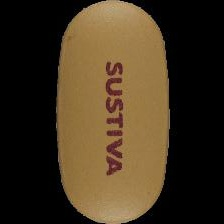54868-4668: (0, 0, 224, 224)
